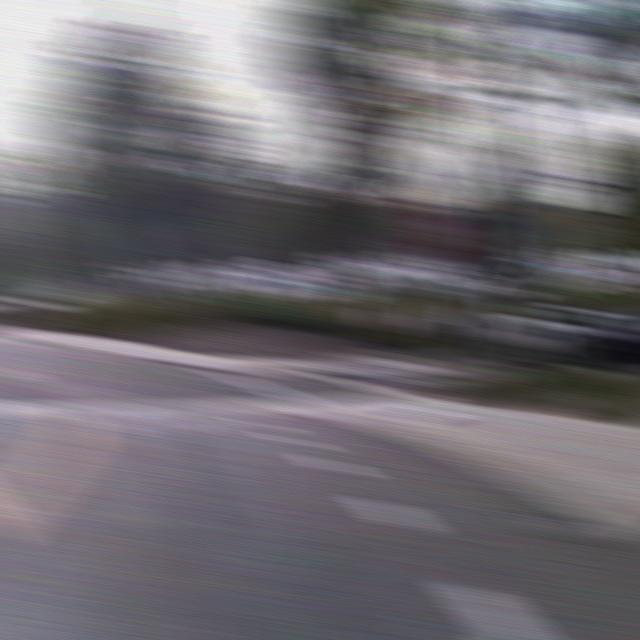stop_sign: (412, 205, 473, 263)
